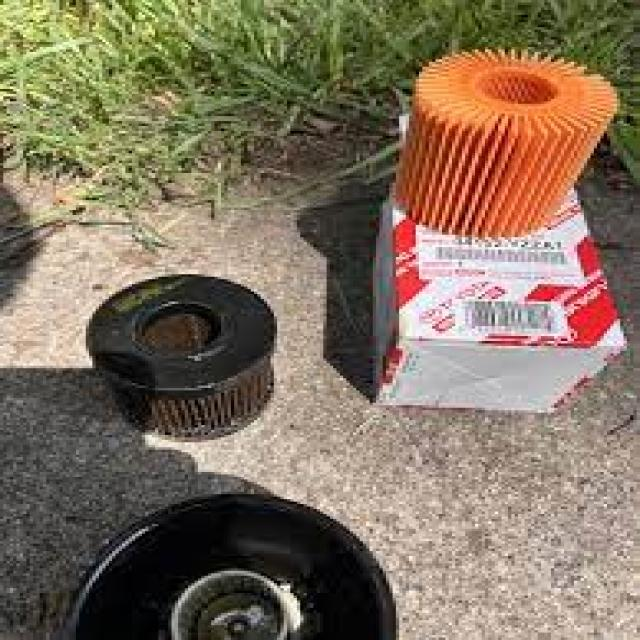oil_filter: (391, 47, 621, 235), (75, 268, 284, 447)
